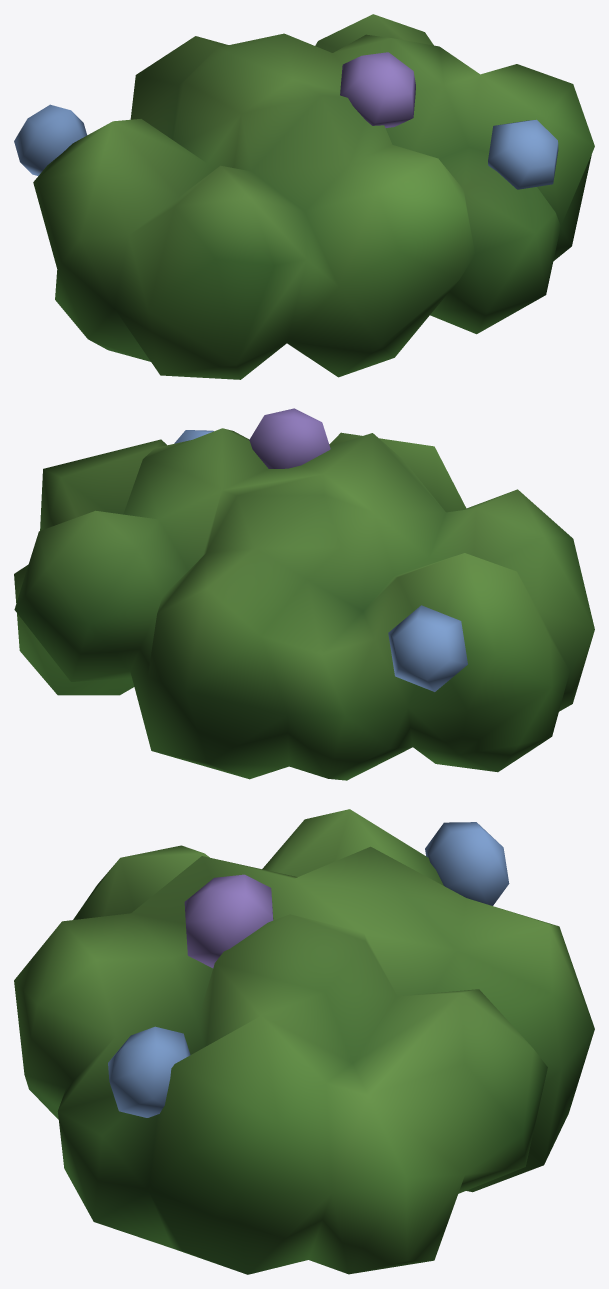
Rendered from bush-b-summer.lod1.glb.
The picture shows the model from 3 angles, top to bottom: view 1: azimuth 30°, elevation 25°; view 2: azimuth 150°, elevation 25°; view 3: azimuth 270°, elevation 25°; orthographic projection. The views are drawn at different scales.
Visible parts, largest first — view 1: bush-b-summer.lod1; view 2: bush-b-summer.lod1; view 3: bush-b-summer.lod1.
Part boxes in pixels (x1,y1,x2,y2): bush-b-summer.lod1: [14, 14, 594, 379]; bush-b-summer.lod1: [14, 408, 594, 780]; bush-b-summer.lod1: [14, 809, 594, 1274].
Bounding box in the file's own units: 1.34 × 0.6777 × 1.1.
